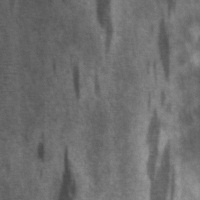inclusion: (139, 60, 178, 199), (143, 1, 177, 91), (92, 1, 118, 60), (55, 141, 81, 200), (33, 128, 50, 178), (67, 62, 85, 102)
